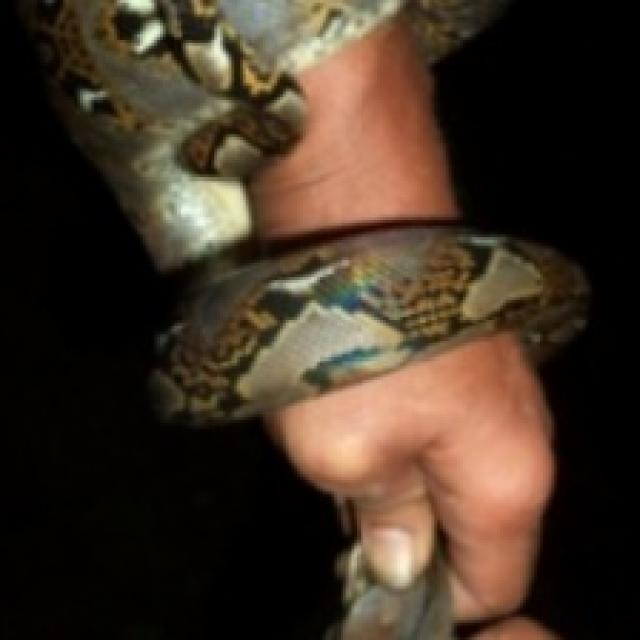reticulated python: (22, 0, 584, 424), (338, 556, 452, 640)
